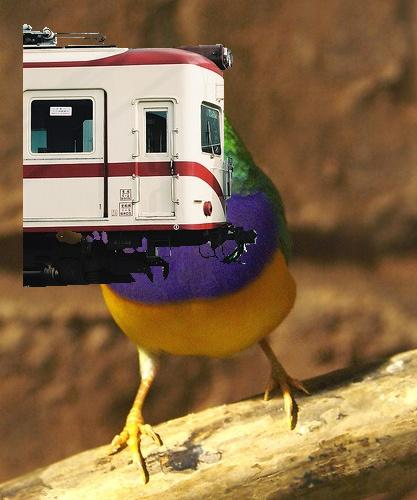tampered: (24, 25, 257, 287)
